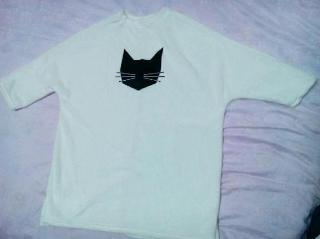long sleeve dress: (0, 7, 318, 239)
